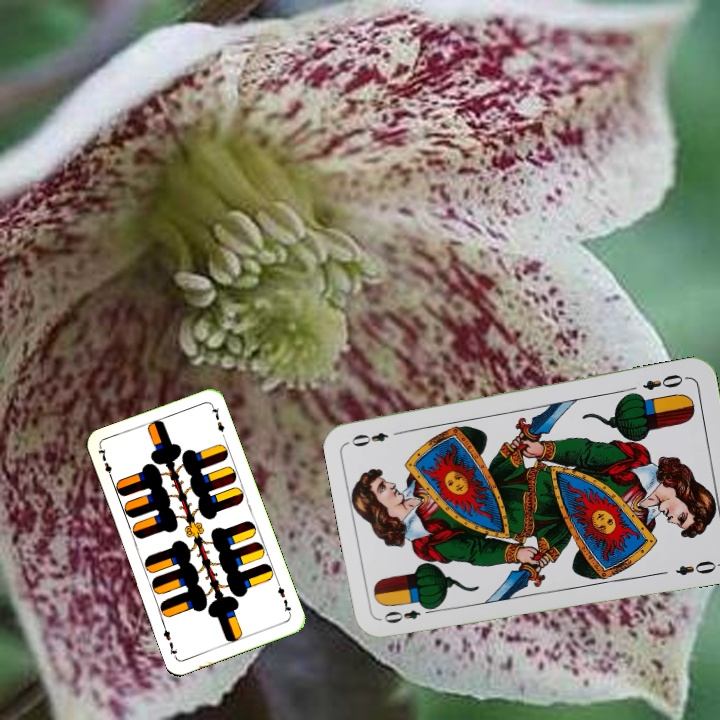E7: (94, 444, 116, 483), (273, 579, 294, 618)
EO: (379, 601, 438, 626), (639, 370, 690, 393)
